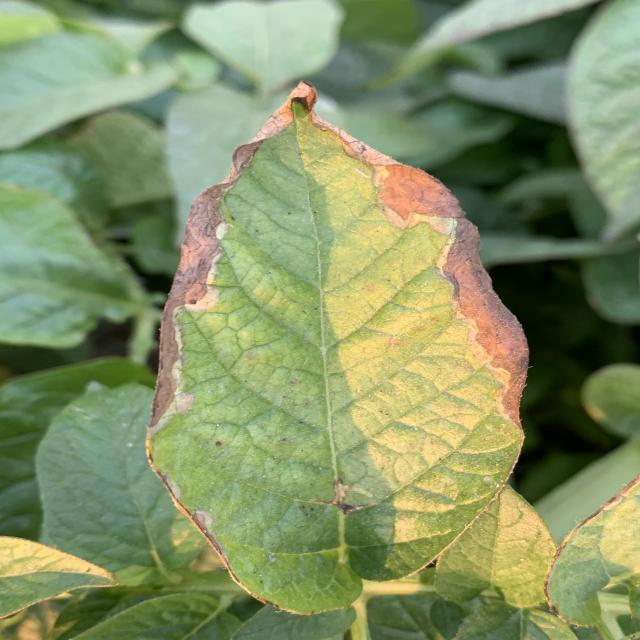lateblight: (250, 82, 492, 302), (400, 268, 528, 422), (150, 184, 228, 432), (220, 82, 372, 186)
